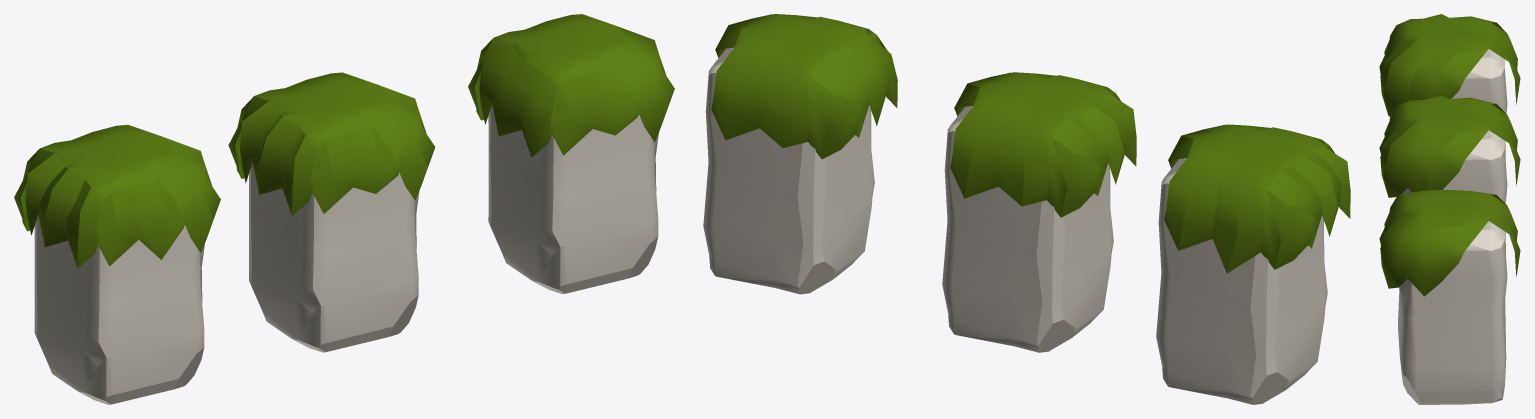
Rendered from MSH_TEST_StoneAndGrassShaderTest.fbx.
3 renders of one model, left to right at view 1: azimuth 30°, elevation 25°; view 2: azimuth 150°, elevation 25°; view 3: azimuth 270°, elevation 25°, orthographic. The views are drawn at different scales.
Parts seen in each view (by area): view 1: StoneTestforShader1 (×3), GrassTryforShaded_Stone (×3); view 2: StoneTestforShader1 (×3), GrassTryforShaded_Stone (×3); view 3: GrassTryforShaded_Stone (×3), StoneTestforShader1 (×3).
Part boxes in pixels (bbox=[...]): StoneTestforShader1 (×3): bbox=[34, 104, 658, 404]; GrassTryforShaded_Stone (×3): bbox=[14, 14, 674, 267]; StoneTestforShader1 (×3): bbox=[703, 47, 1327, 404]; GrassTryforShaded_Stone (×3): bbox=[711, 14, 1350, 273]; GrassTryforShaded_Stone (×3): bbox=[1379, 14, 1520, 296]; StoneTestforShader1 (×3): bbox=[1398, 49, 1507, 404].
Bounding box in the file's own units: 26.97 × 9.82 × 6.88.
